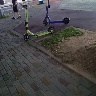beam: (39, 1, 73, 27)
gcooter: (19, 3, 57, 42)
